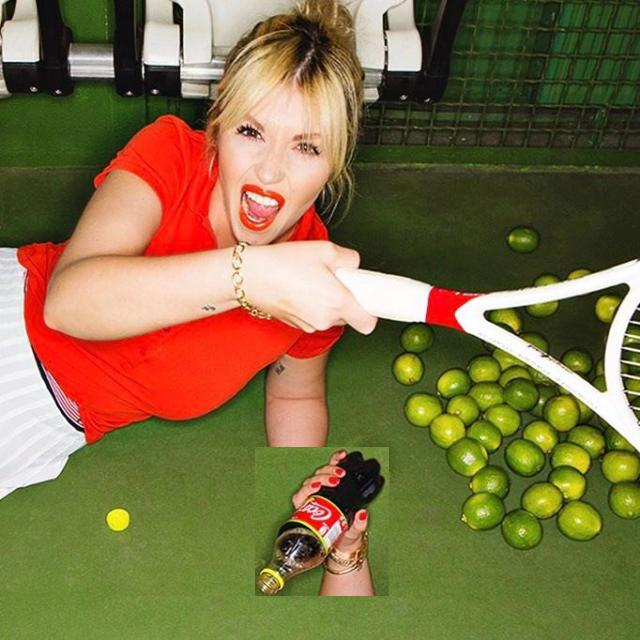coca-cola: (255, 447, 389, 596)
